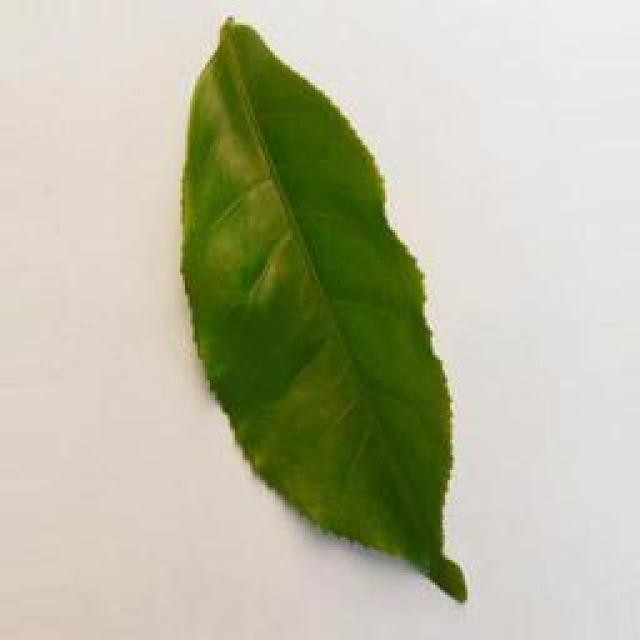Healthy: (164, 12, 489, 612)
